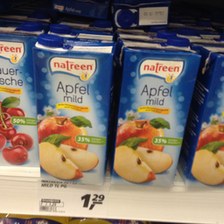juice: (110, 37, 202, 188), (32, 33, 115, 188)
